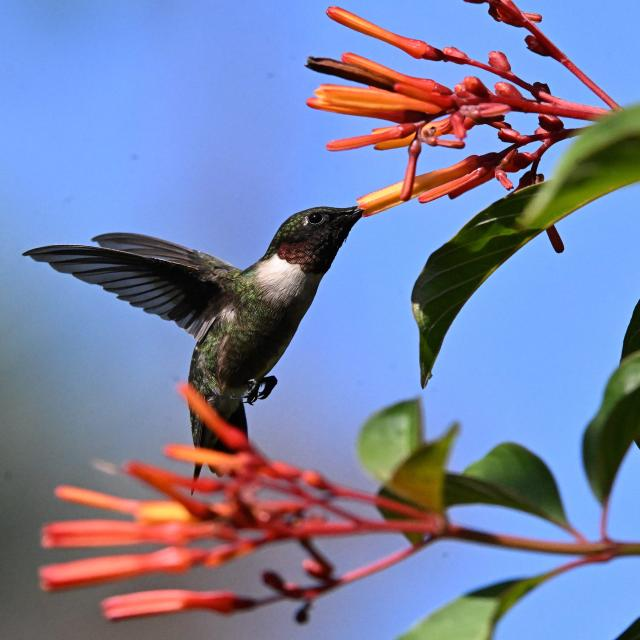Humming Bird: (44, 199, 367, 467)
